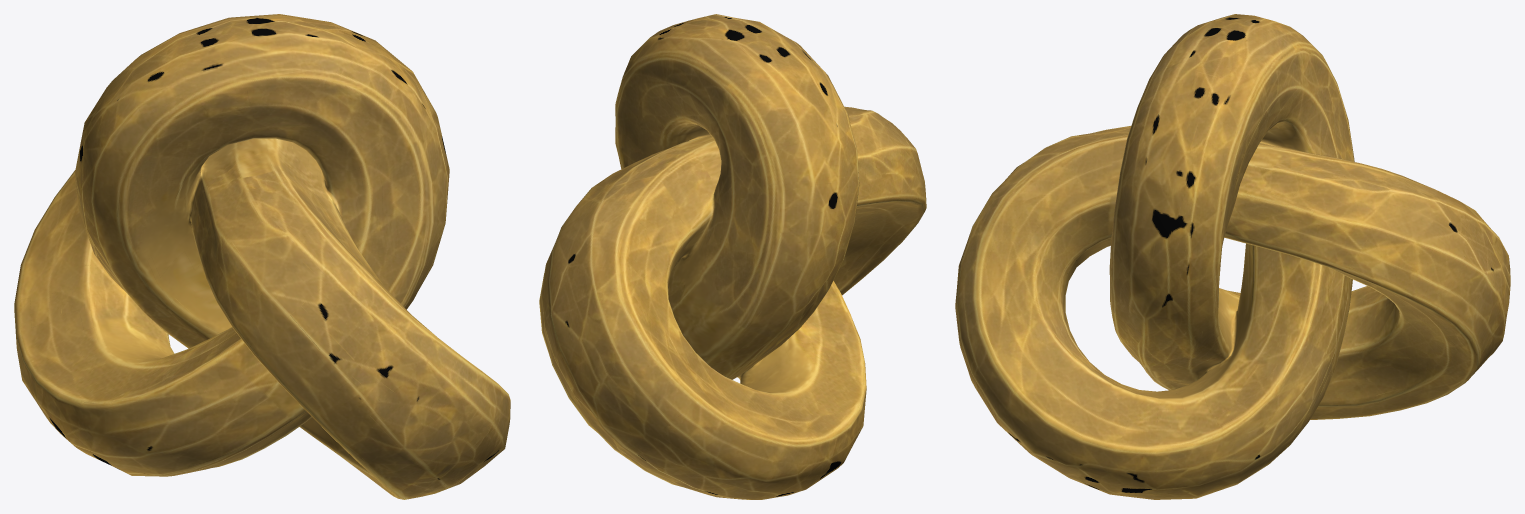
Rendered from bonus_special_LOW_5k.fbx.
3 renders of one model, left to right at view 1: azimuth 30°, elevation 25°; view 2: azimuth 150°, elevation 25°; view 3: azimuth 270°, elevation 25°, orthographic. The views are drawn at different scales.
Visible parts, largest first — view 1: HIGH; view 2: HIGH; view 3: HIGH.
Part boxes in pixels (x1,y1,x2,y2): HIGH: (14,14,510,499); HIGH: (539,14,926,499); HIGH: (955,14,1510,499).
Size of the model in its own units: 1.23 by 1.57 by 1.89.
1 material, 1 textured.
